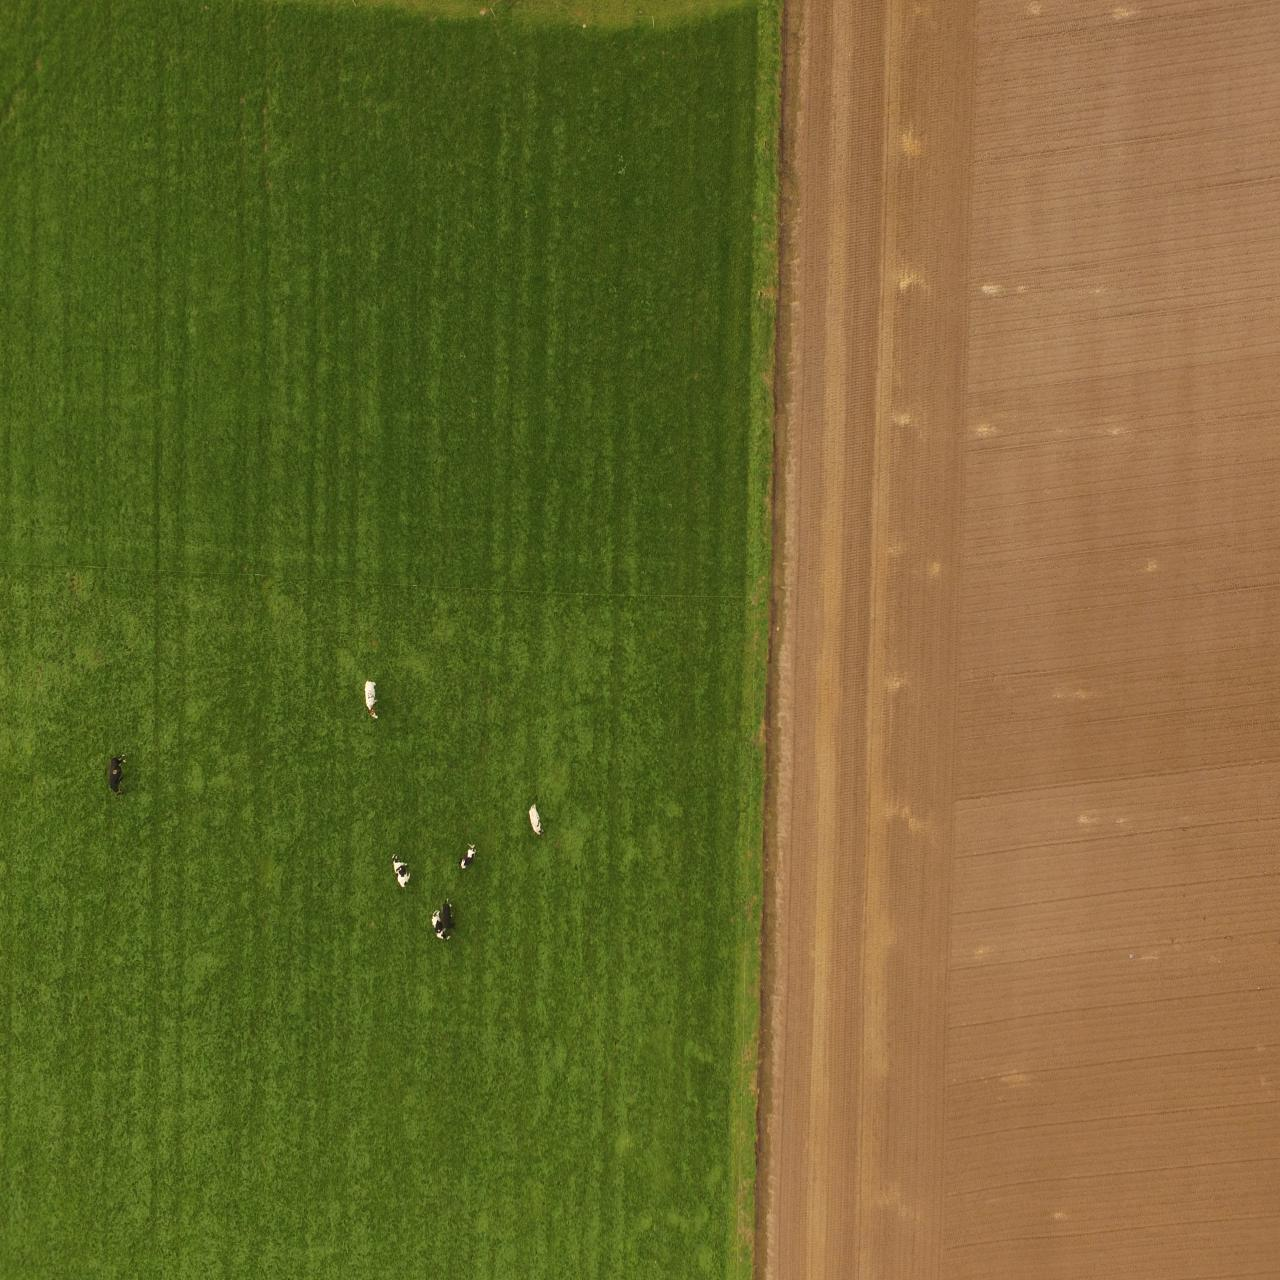cow: (105, 754, 129, 797), (365, 681, 383, 721), (392, 852, 411, 888), (458, 842, 481, 872), (431, 910, 452, 940), (441, 899, 459, 931), (527, 804, 546, 836)
